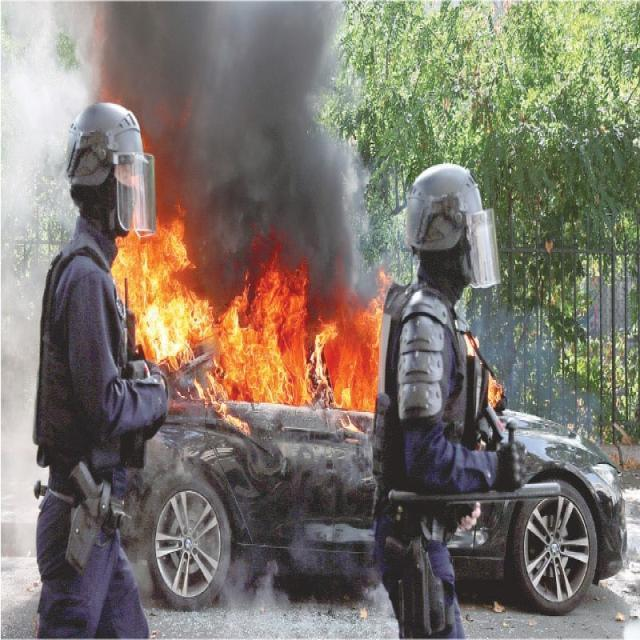Fire: (120, 215, 382, 416)
Smoke: (104, 0, 344, 206)
